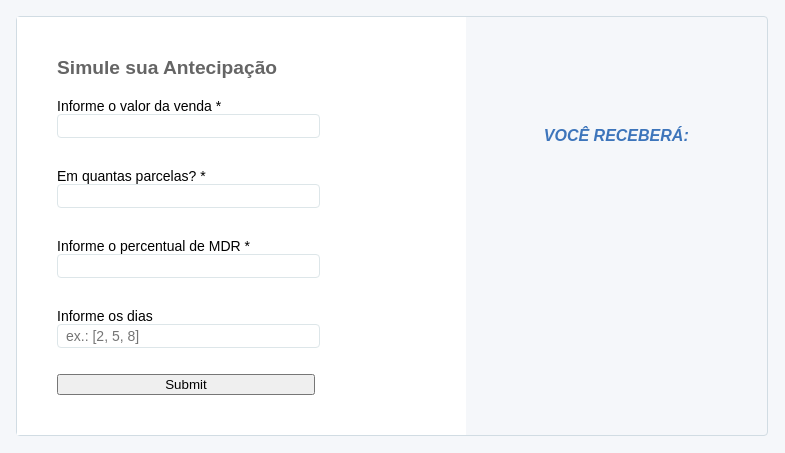
Test case: Anticipation calculator › Teste de cálculo com número de parcelas menor que 1
Type "15000" into the field named "amount" at (189, 126), box [57,114,320,138]
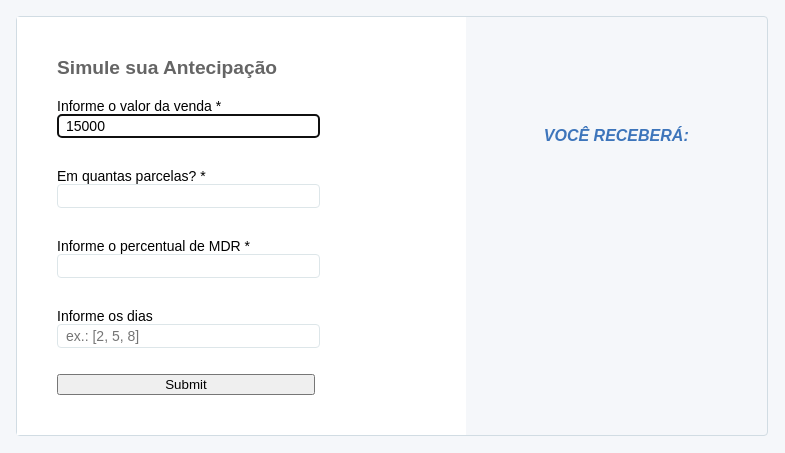
Type "0" into the number field named "installments" below "Em quantas parcelas? *" at (189, 196), box [57,184,320,208]
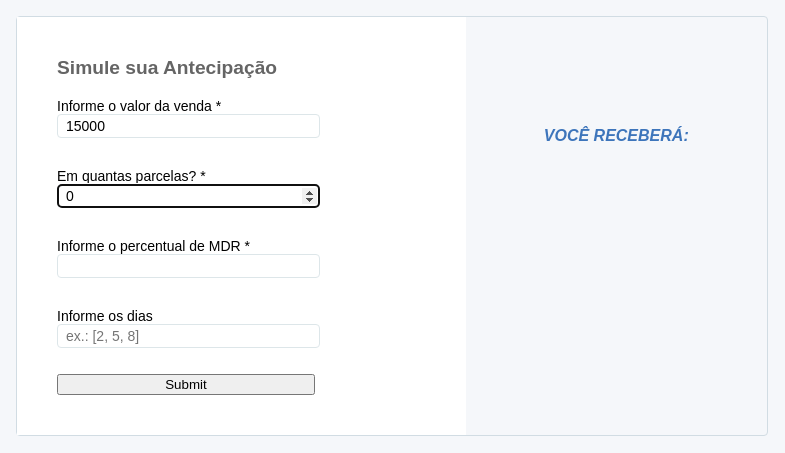
Type "4" into the number field named "mdr" below "Informe o percentual de MDR *" at (189, 266), box [57,254,320,278]
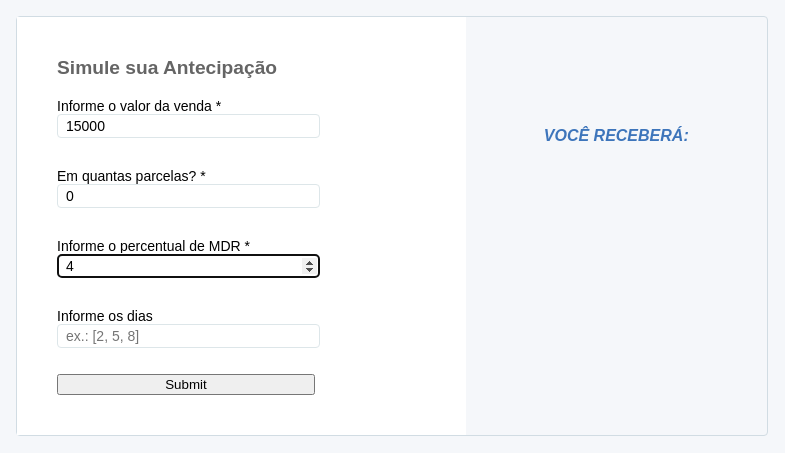
Click the button with class "calcular" at (186, 385), box [57,374,315,395]
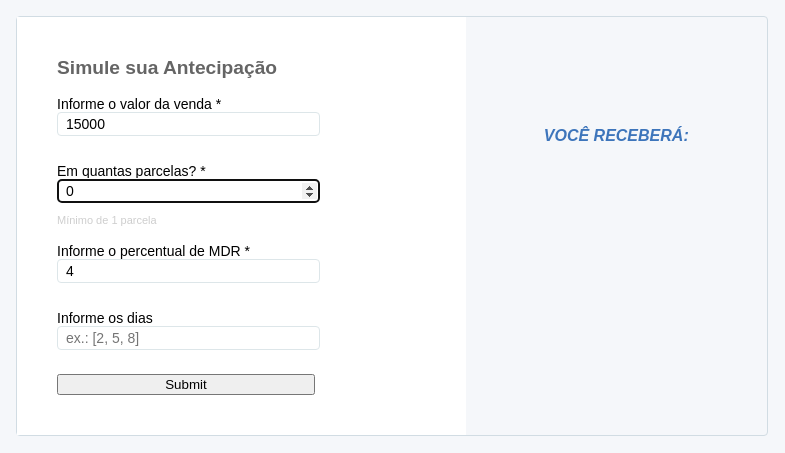
Check: the text "Mínimo de 1 parcela" is shown, box [57,214,157,226]
